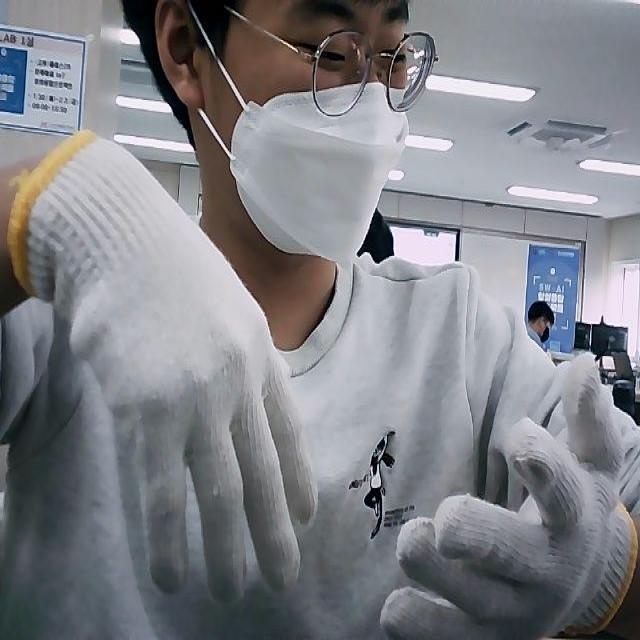Guantes: (11, 130, 318, 600), (380, 352, 640, 640)
